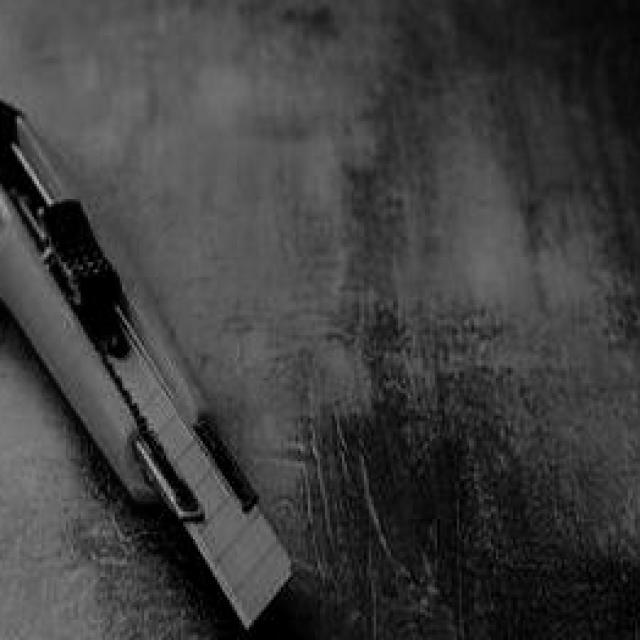estilete: (0, 102, 291, 625)
